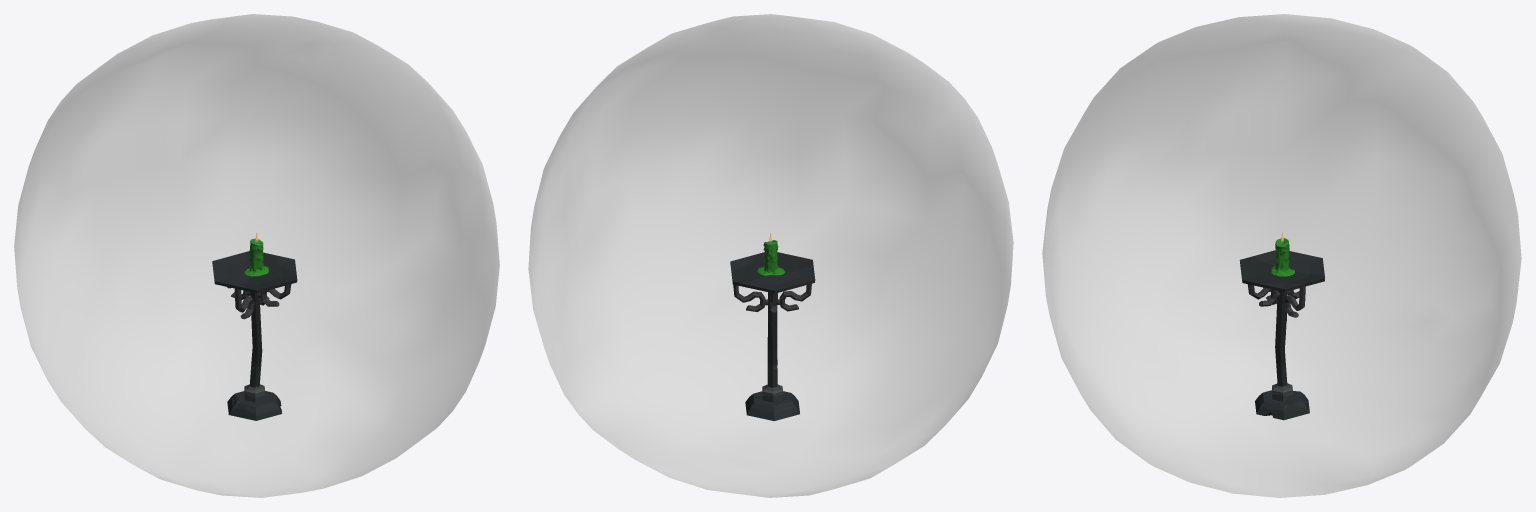
The model's file is ecclesiasticalMediumComplete.glb.
3 views of the same model, side by side, from view 1: azimuth 30°, elevation 25°; view 2: azimuth 150°, elevation 25°; view 3: azimuth 270°, elevation 25° (orthographic).
Parts seen in each view (by area): view 1: Room, Candle_Stand, XBase; view 2: Room, Candle_Stand, XBase; view 3: Room, Candle_Stand, XBase.
Boxes of the visible parts, x1,y1,x2,y2 form: Room: (14, 14, 499, 497); Candle_Stand: (212, 251, 297, 420); XBase: (244, 238, 268, 276); Room: (528, 14, 1013, 497); Candle_Stand: (730, 252, 815, 421); XBase: (757, 240, 784, 275); Room: (1042, 14, 1521, 497); Candle_Stand: (1239, 250, 1324, 420); XBase: (1271, 238, 1294, 276).
Bounding box in the file's own units: 24.43 × 24.43 × 24.44.
5 materials, 3 textured.
